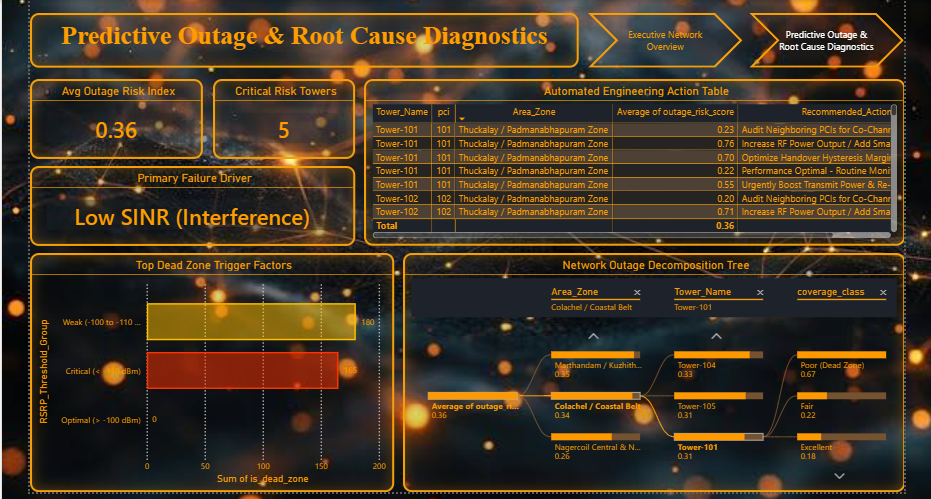

The page's visual inventory and layout, read from the dashboard file:
{"tool":"powerbi","page":{"name":" Predictive Outage & Root Cause Diagnostics ","canvas":[1280,720],"ordinal":3},"visuals":[{"type":"textbox","box":[0,19,803.4,80.5],"z":0},{"type":"cardVisual","title":"Avg Outage Risk Index","fields":{"Data":["Avg(processed_drive_test.outage_risk_score)"]},"box":[0,115.6,253.2,117.1],"z":1000},{"type":"cardVisual","title":"Critical Risk Towers","fields":{"Data":["processed_drive_test.High_Risk_Towers"]},"box":[267.8,115.6,207.8,117.1],"z":2000},{"type":"cardVisual","title":"Primary Failure Driver","fields":{"Data":["processed_drive_test.Primary_Failure_Cause"]},"box":[0,242.9,475.6,117.1],"z":3000},{"type":"decompositionTreeVisual","title":"Network Outage Decomposition Tree","fields":{"Analyze":["Avg(processed_drive_test.outage_risk_score)"],"ExplainBy":["processed_drive_test.Area_Zone","processed_drive_test.Tower_Name","processed_drive_test.coverage_class"]},"box":[545.9,370.2,734.6,349.8],"z":4000},{"type":"tableEx","title":"Automated Engineering Action Table","fields":{"Values":["processed_drive_test.Tower_Name","processed_drive_test.pci","processed_drive_test.Area_Zone","Avg(processed_drive_test.outage_risk_score)","processed_drive_test.Recommended_Action"]},"box":[488.8,115.6,791.7,244.4],"z":5000},{"type":"clusteredBarChart","title":"Top Dead Zone Trigger Factors","fields":{"Category":["processed_drive_test.RSRP_Threshold_Group"],"Y":["Sum(processed_drive_test.is_dead_zone)"]},"box":[0,370.2,532.7,349.8],"z":6000},{"type":"pageNavigator","box":[816.6,19,463.9,80.5],"z":6001}]}

Visuals, with their boxes in screenshot pixels (x1, y1, x2, y2):
textbox: l=27, t=11, r=576, b=66
"Avg Outage Risk Index" cardVisual: l=27, t=77, r=200, b=157
"Critical Risk Towers" cardVisual: l=210, t=77, r=352, b=157
"Primary Failure Driver" cardVisual: l=27, t=164, r=352, b=244
"Network Outage Decomposition Tree" decompositionTreeVisual: l=400, t=251, r=903, b=490
"Automated Engineering Action Table" tableEx: l=361, t=77, r=903, b=244
"Top Dead Zone Trigger Factors" clusteredBarChart: l=27, t=251, r=391, b=490
pageNavigator: l=585, t=11, r=903, b=66
